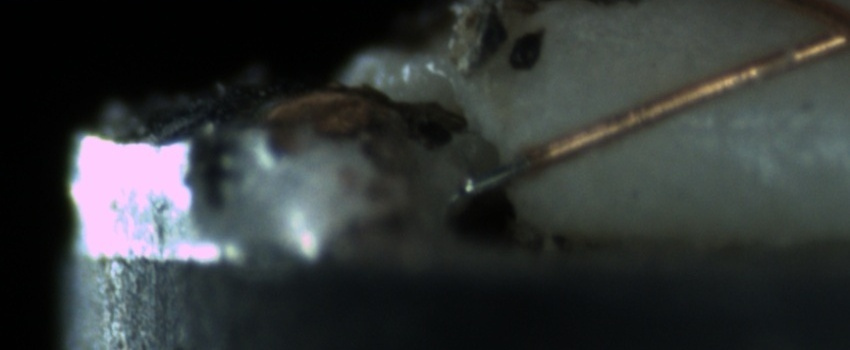CL: (797, 3, 850, 58)
DL: (637, 99, 844, 155)
TS: (460, 152, 531, 201)
